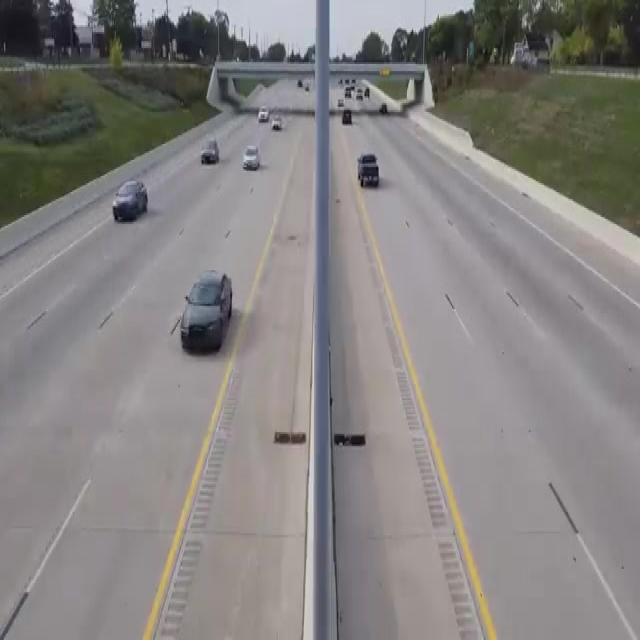car: (181, 250, 240, 368), (101, 166, 147, 234), (192, 128, 232, 170), (238, 139, 272, 174), (332, 104, 363, 141), (376, 98, 398, 126), (270, 108, 288, 140), (254, 105, 271, 130)
truck: (342, 146, 391, 186)
